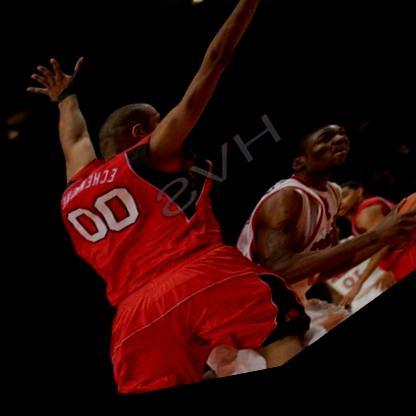basketball: (376, 192, 416, 277)
